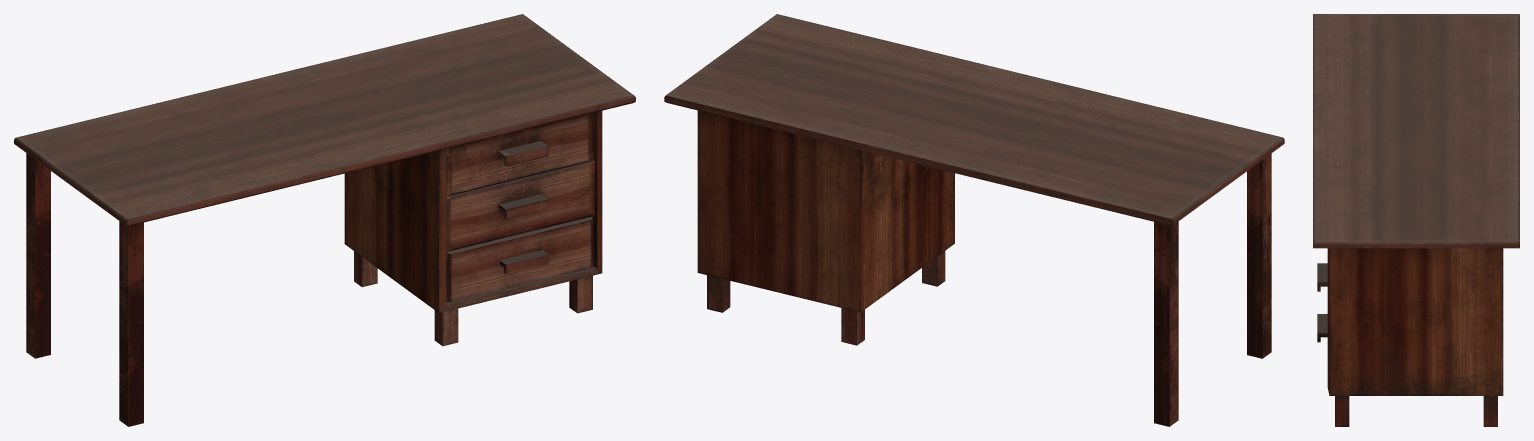
Rendered from simple_dirty_desk.glb.
3 views of the same model, side by side, from view 1: azimuth 30°, elevation 25°; view 2: azimuth 150°, elevation 25°; view 3: azimuth 270°, elevation 25° (orthographic). The views are drawn at different scales.
Parts seen in each view (by area): view 1: Cube; view 2: Cube; view 3: Cube.
Part boxes in pixels (x1,y1,x2,y2): Cube: [14, 14, 635, 426]; Cube: [664, 14, 1284, 426]; Cube: [1313, 14, 1519, 426].
Size of the model in its own units: 1.99 by 0.8011 by 0.7582.
Materials: 1 (1 with a texture image).
